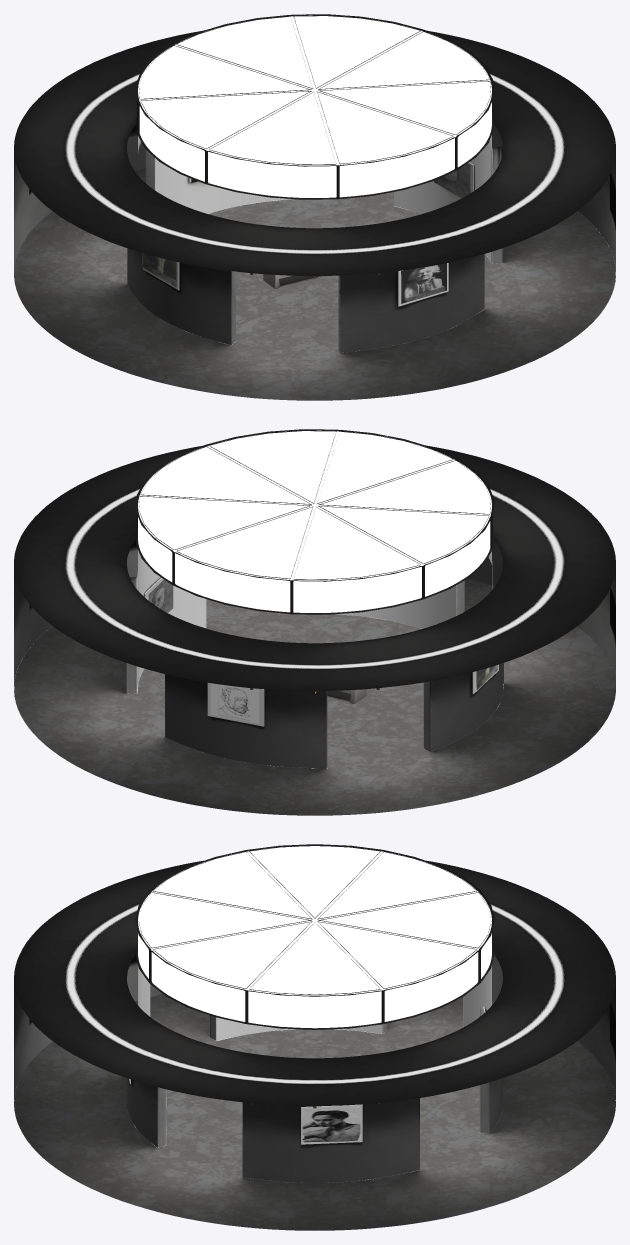
File: Museum-transformed.glb
The picture shows the model from 3 angles, top to bottom: view 1: azimuth 30°, elevation 25°; view 2: azimuth 150°, elevation 25°; view 3: azimuth 270°, elevation 25°; orthographic projection.
Parts seen in each view (by area): view 1: Walls_Floor_0, Walls_Ceilling_0, Lamp_Emissive_0, Walls_Walls_0, CeillingWire_CeillingWire_0, Sulpture-bust-of-mirabeau, Paintng-saturnina-rizal, Sculpture 1.1, PaitingsInside_Painting_0; view 2: Walls_Floor_0, Walls_Ceilling_0, Lamp_Emissive_0, Walls_Walls_0, CeillingWire_CeillingWire_0, Sketch 1.1, PaitingsInside_Painting_0, Paintng-saturnina-rizal; view 3: Walls_Floor_0, Walls_Ceilling_0, Lamp_Emissive_0, Walls_Walls_0, CeillingWire_CeillingWire_0, Sketch of Himself.
Part boxes in pixels (x1,y1,x2,y2): Walls_Floor_0: (14, 168, 615, 400); Walls_Ceilling_0: (14, 31, 615, 275); Lamp_Emissive_0: (138, 15, 491, 197); Walls_Walls_0: (14, 33, 615, 383); CeillingWire_CeillingWire_0: (135, 14, 494, 199); Sulpture-bust-of-mirabeau: (401, 263, 446, 303); Paintng-saturnina-rizal: (434, 163, 470, 197); Sculpture 1.1: (142, 253, 176, 287); PaitingsInside_Painting_0: (142, 162, 473, 306); Walls_Floor_0: (14, 579, 615, 815); Walls_Ceilling_0: (14, 446, 615, 690); Lamp_Emissive_0: (138, 430, 491, 612); Walls_Walls_0: (14, 446, 615, 798); CeillingWire_CeillingWire_0: (135, 429, 494, 614); Sketch 1.1: (210, 683, 258, 723); PaitingsInside_Painting_0: (144, 578, 498, 726); Paintng-saturnina-rizal: (148, 579, 173, 612); Walls_Floor_0: (14, 994, 615, 1230); Walls_Ceilling_0: (14, 860, 615, 1105); Lamp_Emissive_0: (138, 846, 491, 1028); Walls_Walls_0: (14, 893, 615, 1230); CeillingWire_CeillingWire_0: (135, 844, 494, 1029); Sketch of Himself: (302, 1106, 360, 1143).
Bounding box in the file's own units: 16.39 × 5.51 × 16.39.
17 materials, 15 textured.
